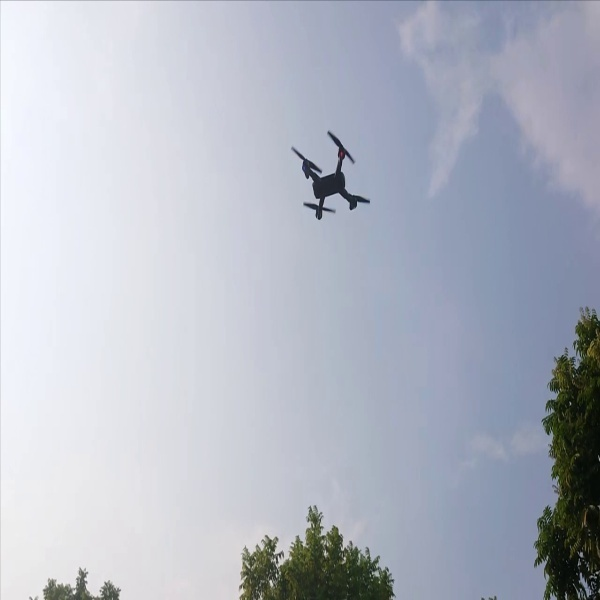drone: (279, 131, 375, 225)
